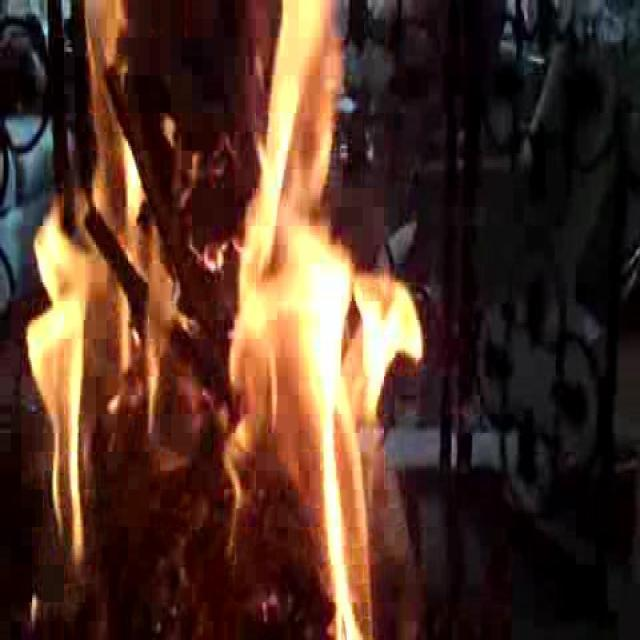Fire: (41, 36, 398, 615)
